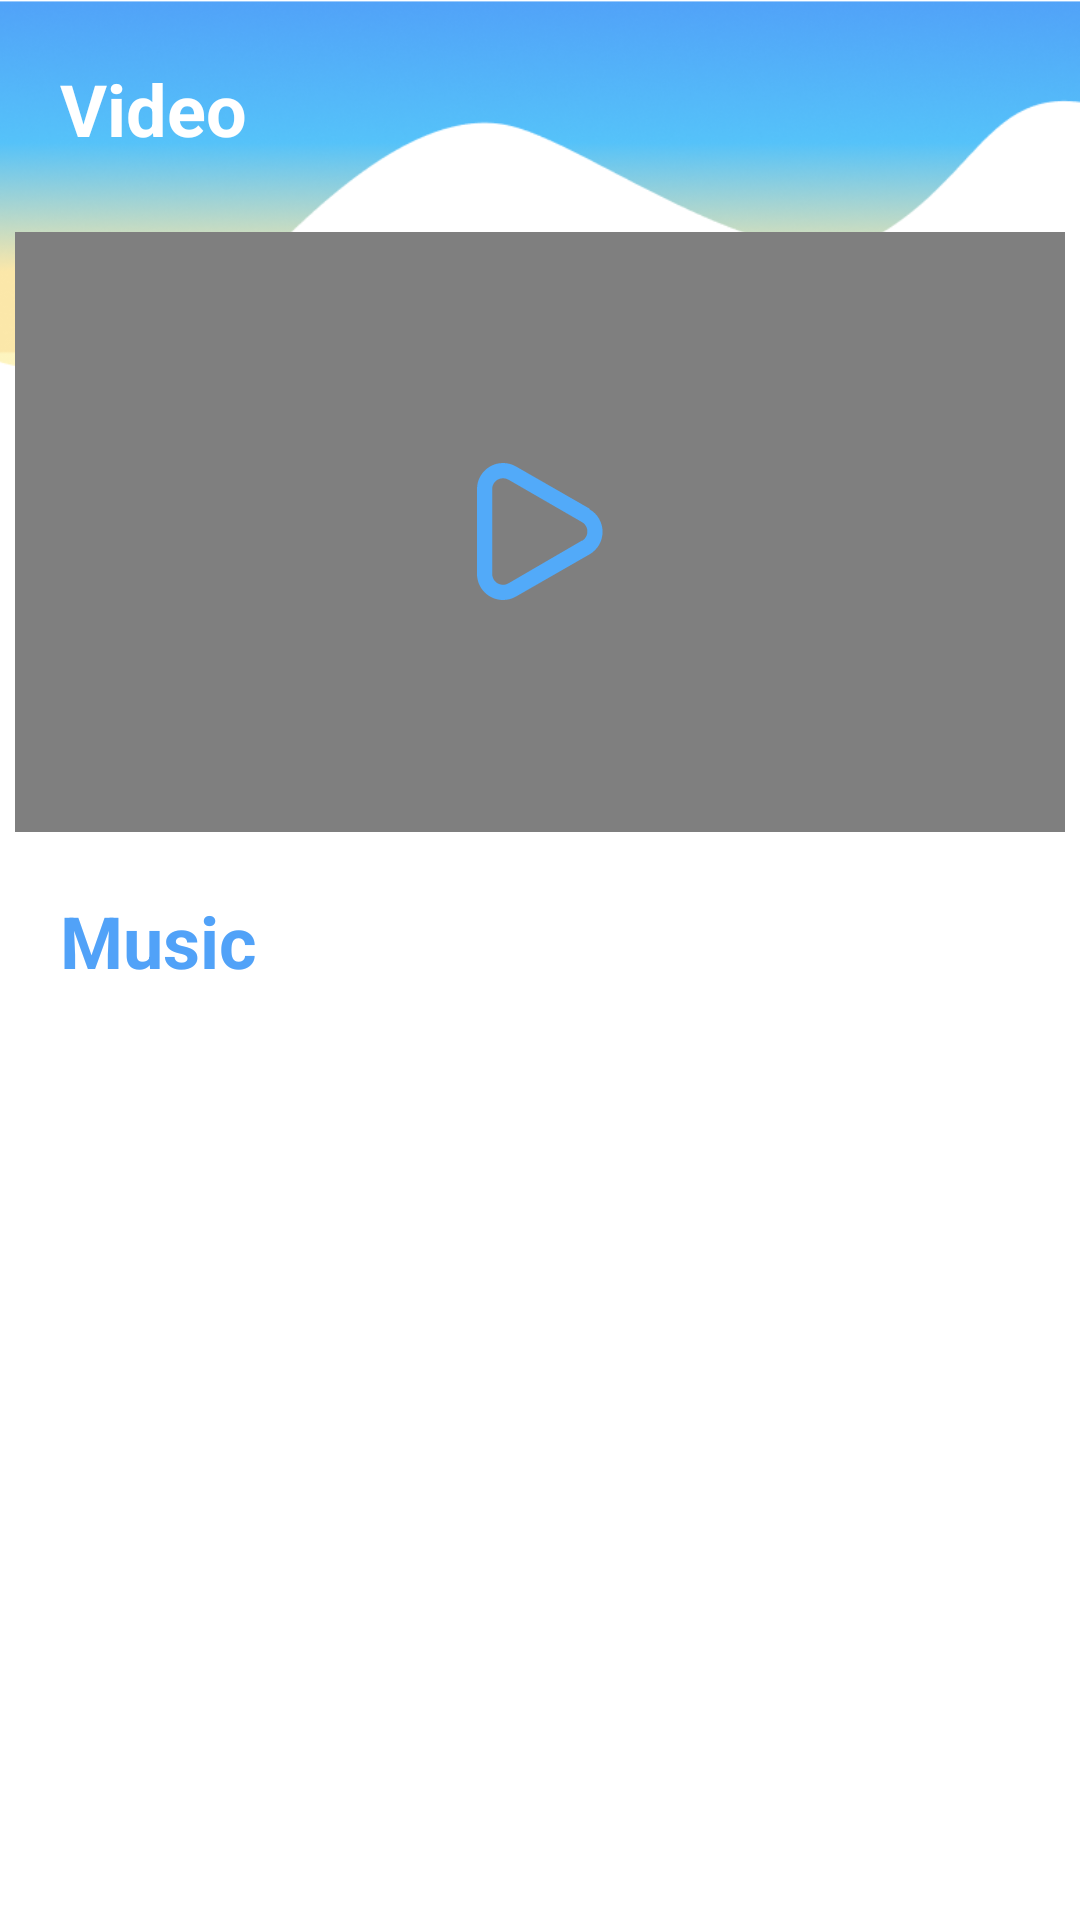

Screen size 1080px×1920px. Icon name, then its box in pixels as [x1, y1, x2, y2]:
start: [477, 463, 603, 600]
